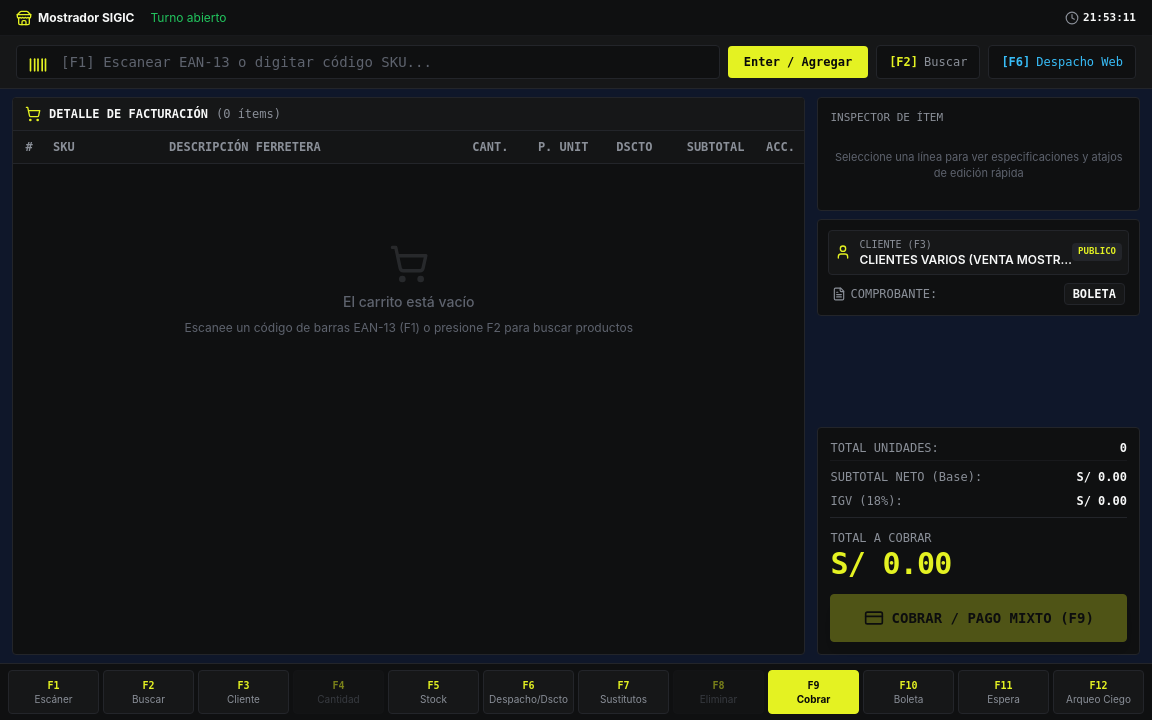
it: Arqueo ciego de caja (RF-CAJ-002) › rechazo de API en F12 muestra error y no confirma cierre
Expected: the text "Turno abierto" is shown, [150,10,226,26]
Press F12
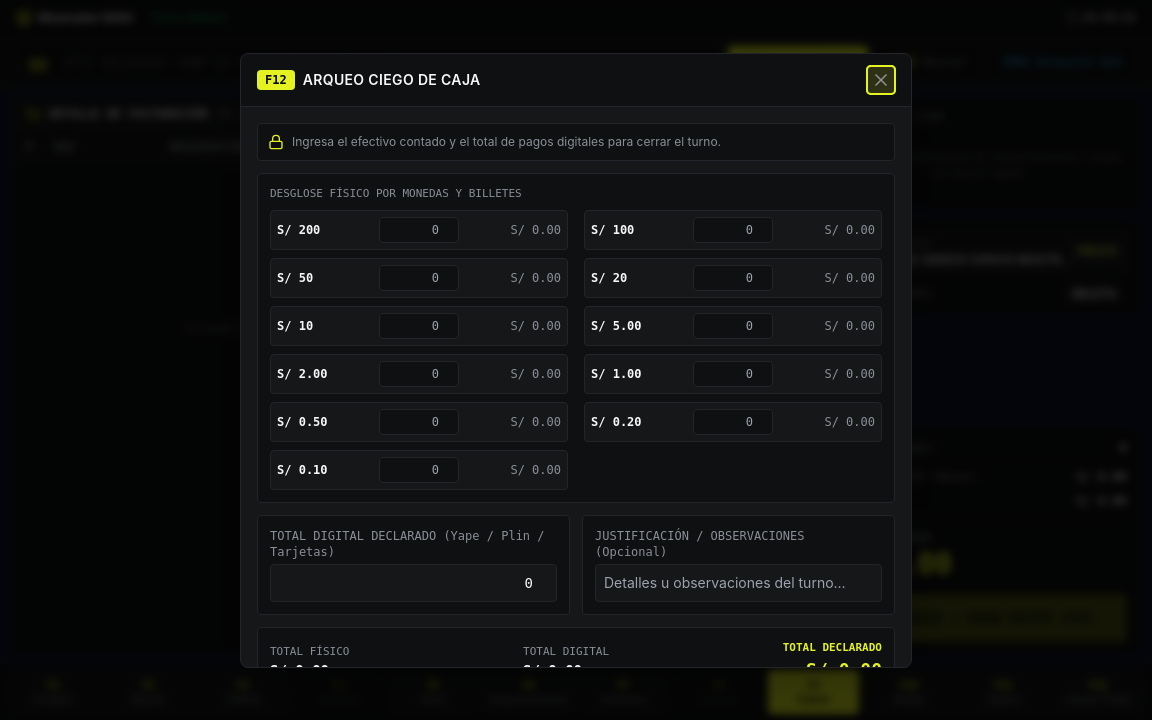
Now the heading "Arqueo ciego de caja" is shown, box [303,70,481,90]
Type "1" into the number field with placeholder "0" next to "S/ 100".
click(733, 230); type("1")  # box [693,216,773,242]
(page scrolled)
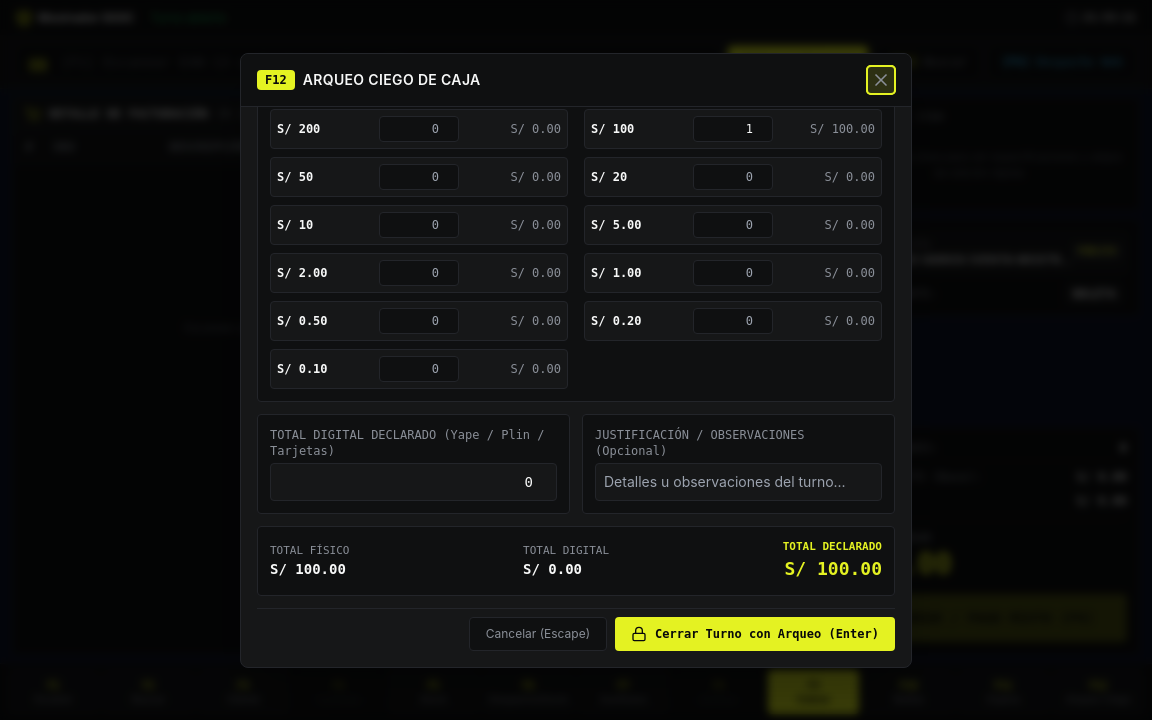
Confirmar arqueo que fallará
Click the button "Cerrar Turno con Arqueo (Enter)".
click(755, 634)  # box [615,616,895,650]
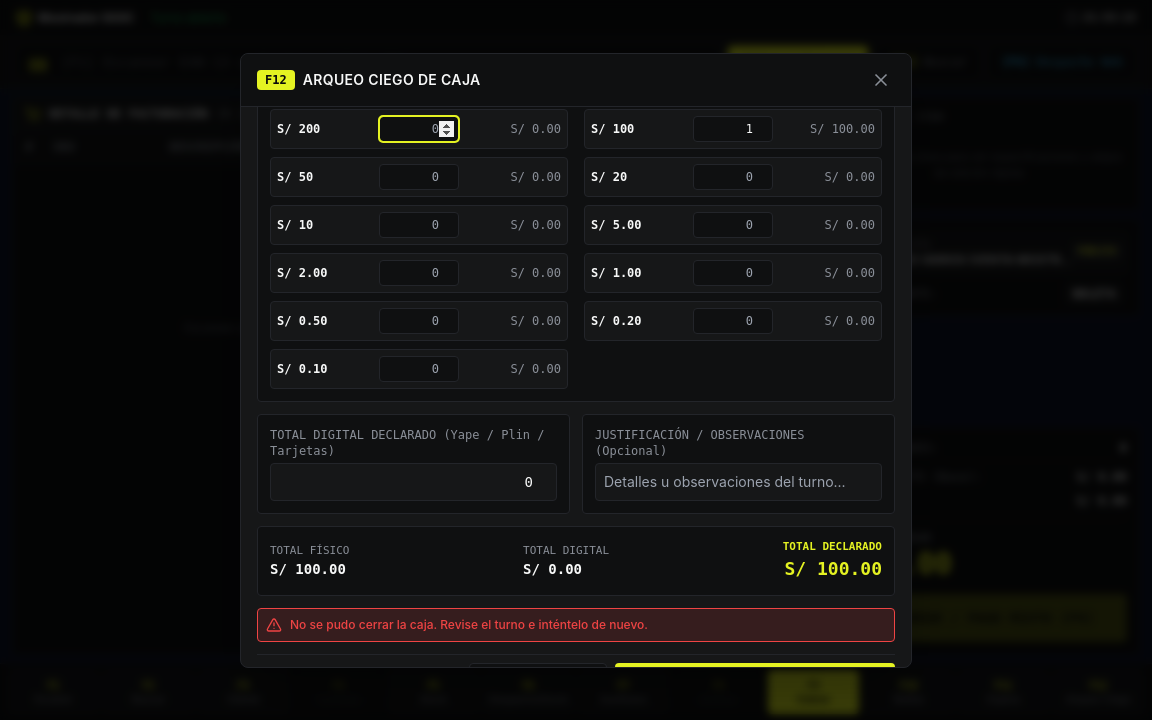
Now the dialog is shown
Now the text "No se pudo cerrar la caja" is shown, box [290,616,648,632]
